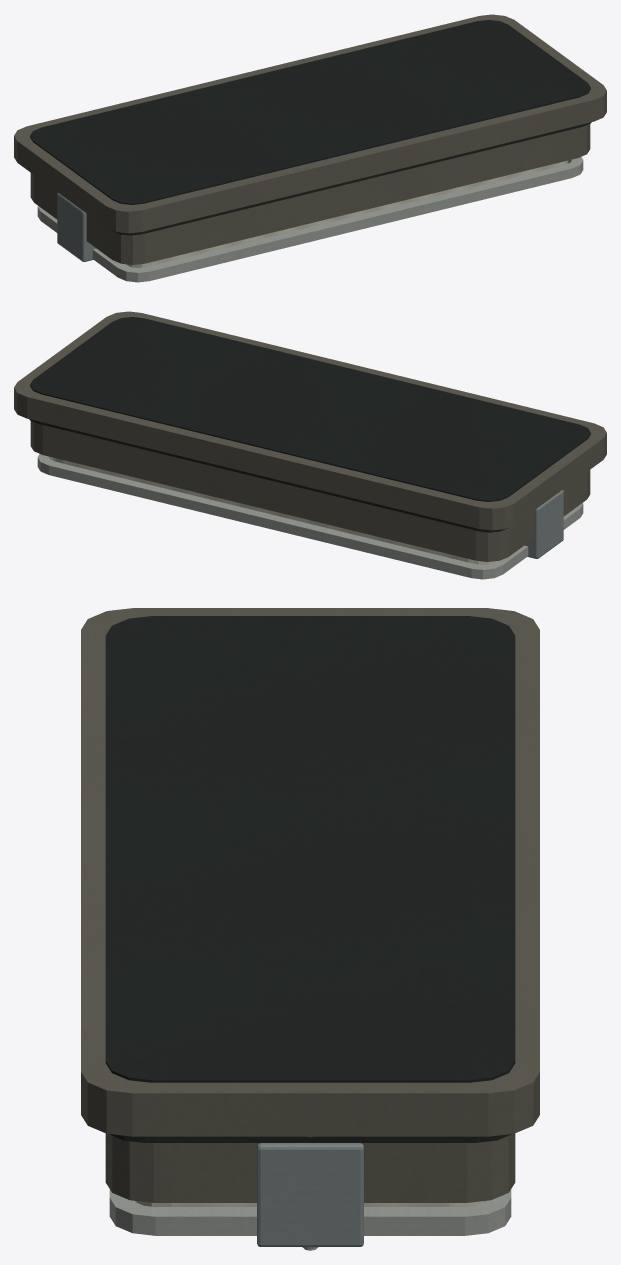
File: SM_Exterior_Canopy_LOD1.fbx
3 renders of one model, top to bottom at view 1: azimuth 30°, elevation 25°; view 2: azimuth 150°, elevation 25°; view 3: azimuth 270°, elevation 25°, orthographic. The views are drawn at different scales.
Visible parts, largest first — view 1: SM_Exterior_Canopy_LOD1; view 2: SM_Exterior_Canopy_LOD1; view 3: SM_Exterior_Canopy_LOD1.
Part boxes in pixels (x1,y1,x2,y2): SM_Exterior_Canopy_LOD1: (14,14,606,282); SM_Exterior_Canopy_LOD1: (14,311,606,579); SM_Exterior_Canopy_LOD1: (81,608,539,1250).
Size of the model in its own units: 0.6 by 0.24 by 0.099.
